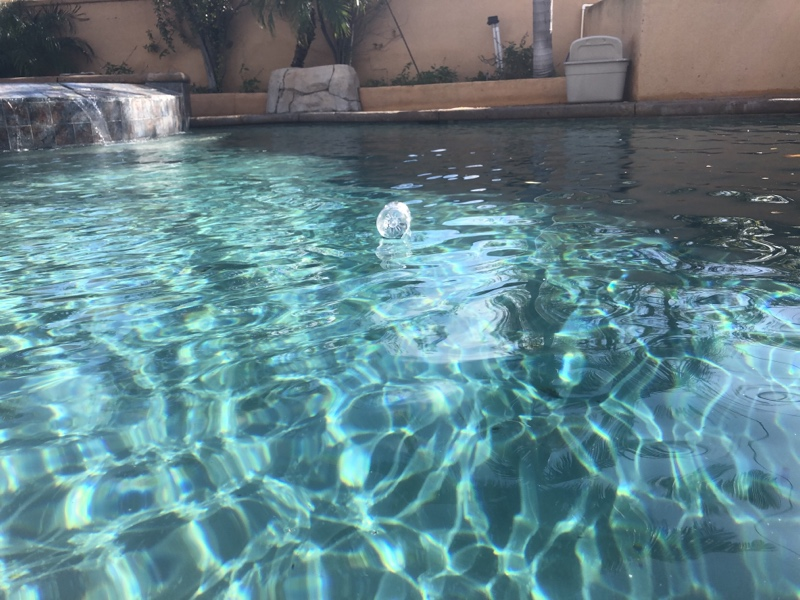Plastic Bottle: (376, 200, 414, 242)
